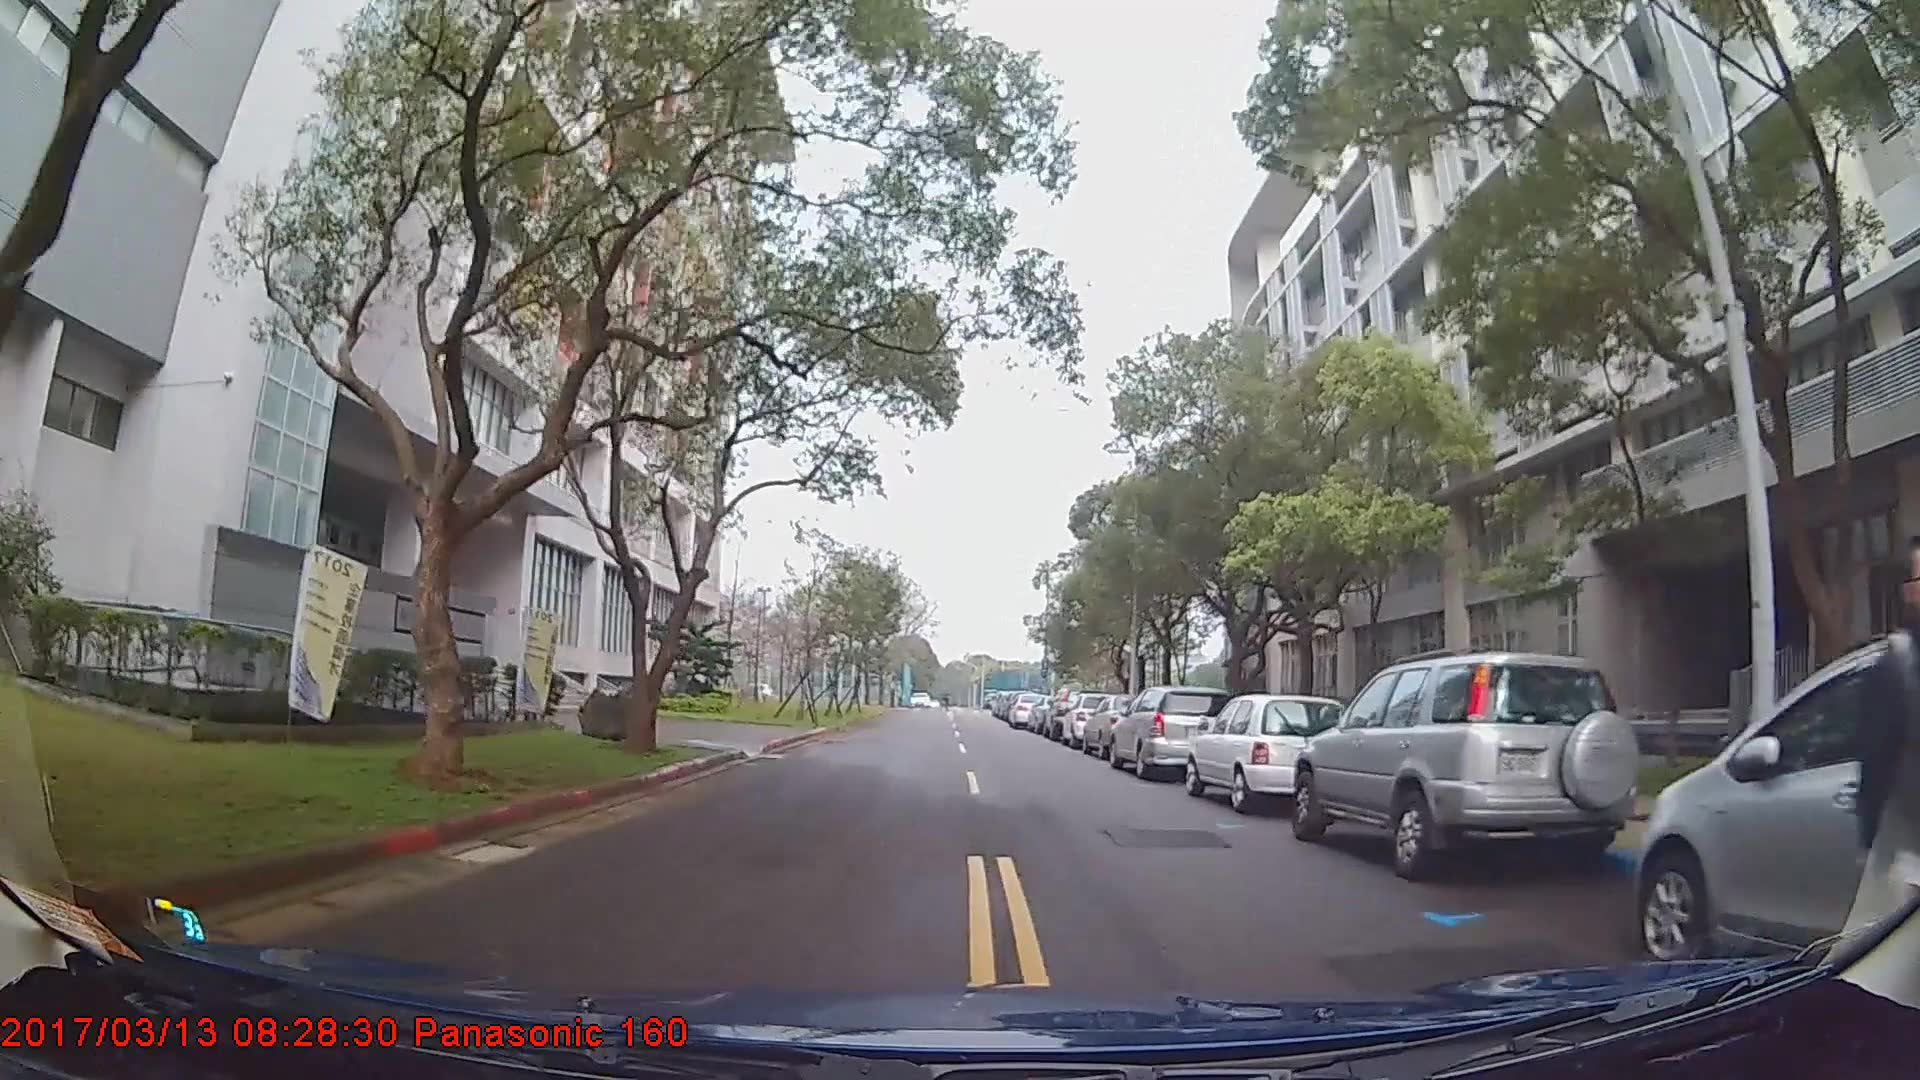pedestrian: (1855, 543, 1920, 1048)
vehicle: (1634, 632, 1919, 969), (1290, 648, 1644, 882), (1184, 693, 1349, 811), (1109, 684, 1238, 780), (1006, 690, 1049, 729)
